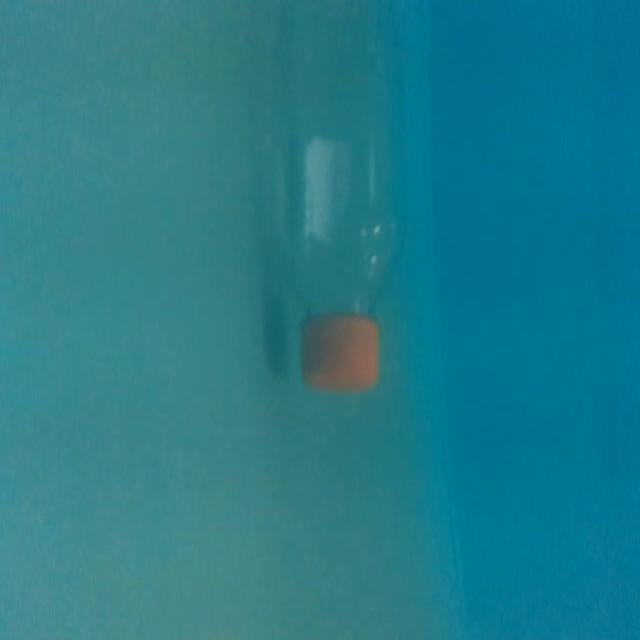plastic bottle: (238, 0, 420, 408)
